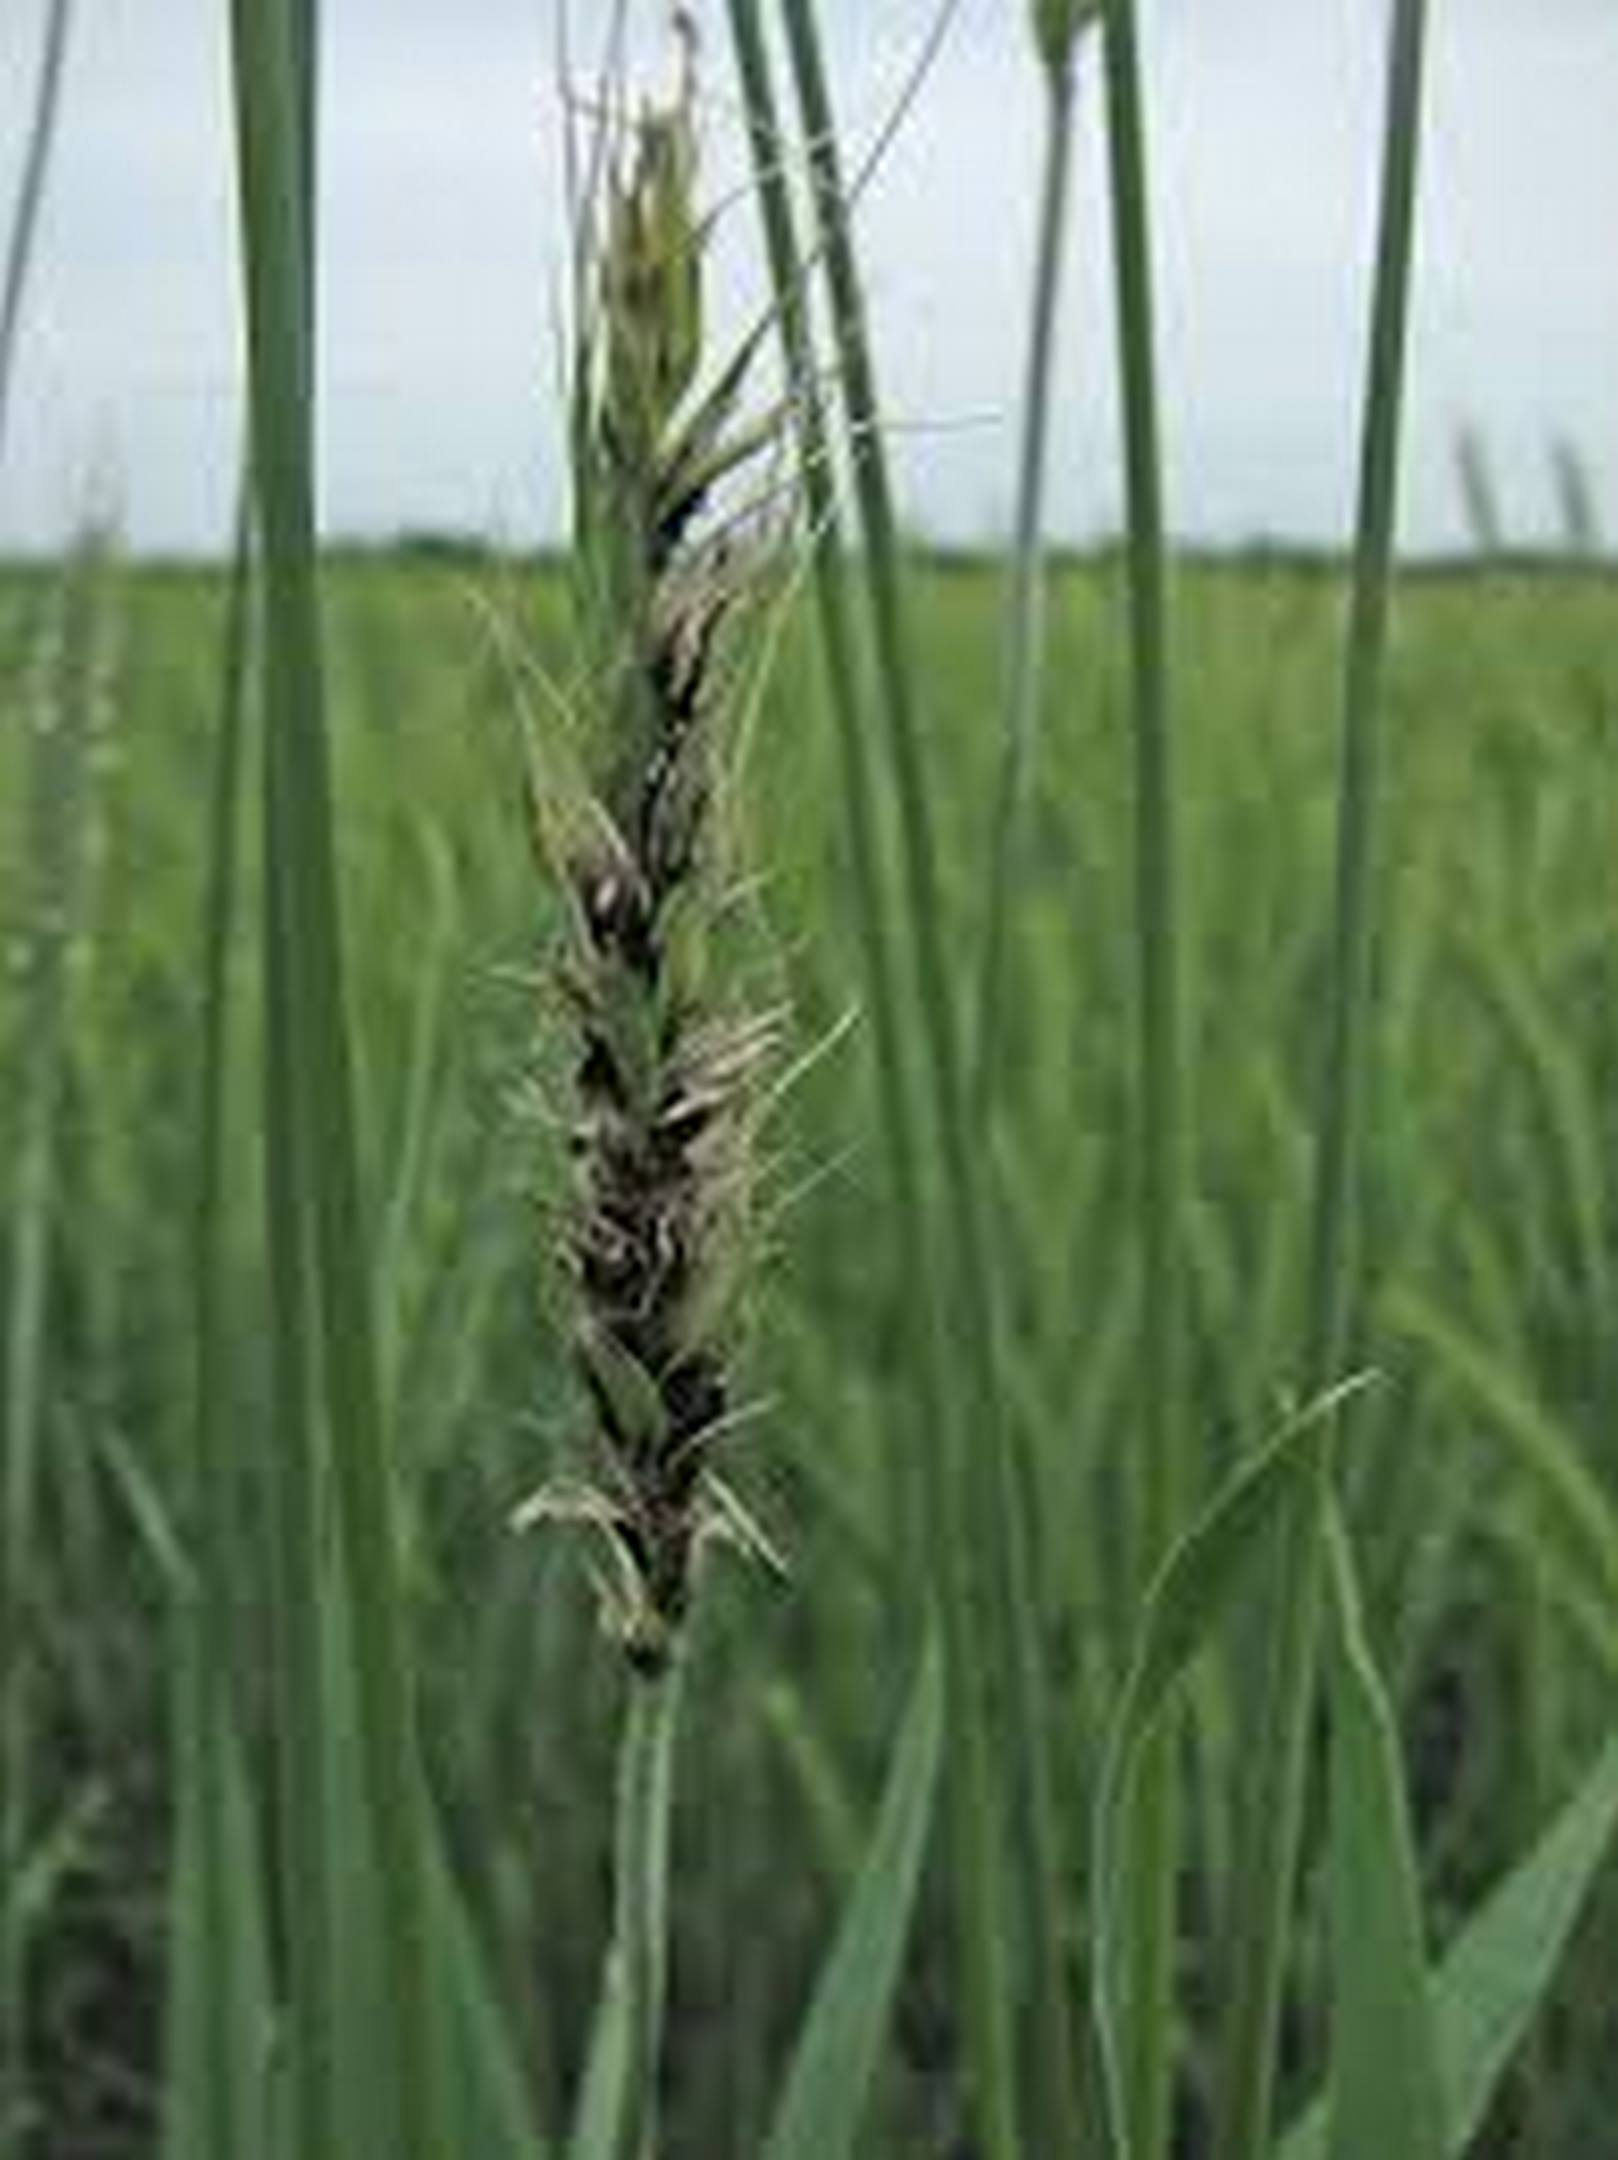Wheat Loose Smut: (501, 585, 807, 1630)
